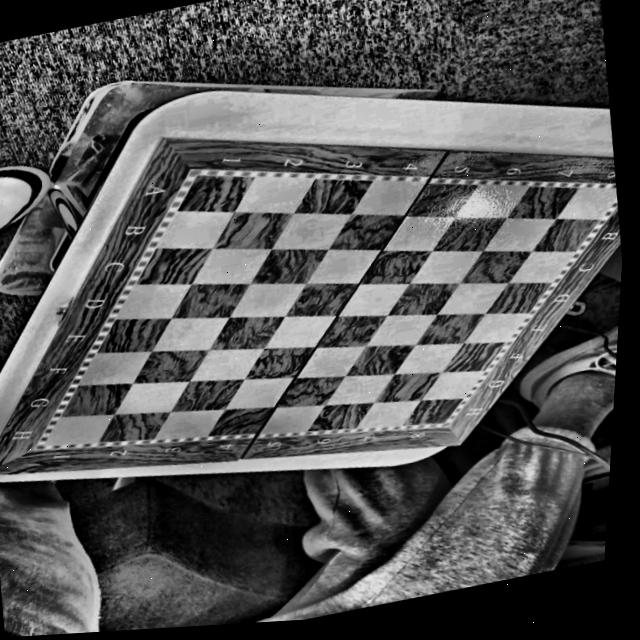chessboard: (0, 148, 621, 467)
